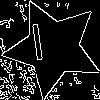I: (28, 23, 48, 70)
